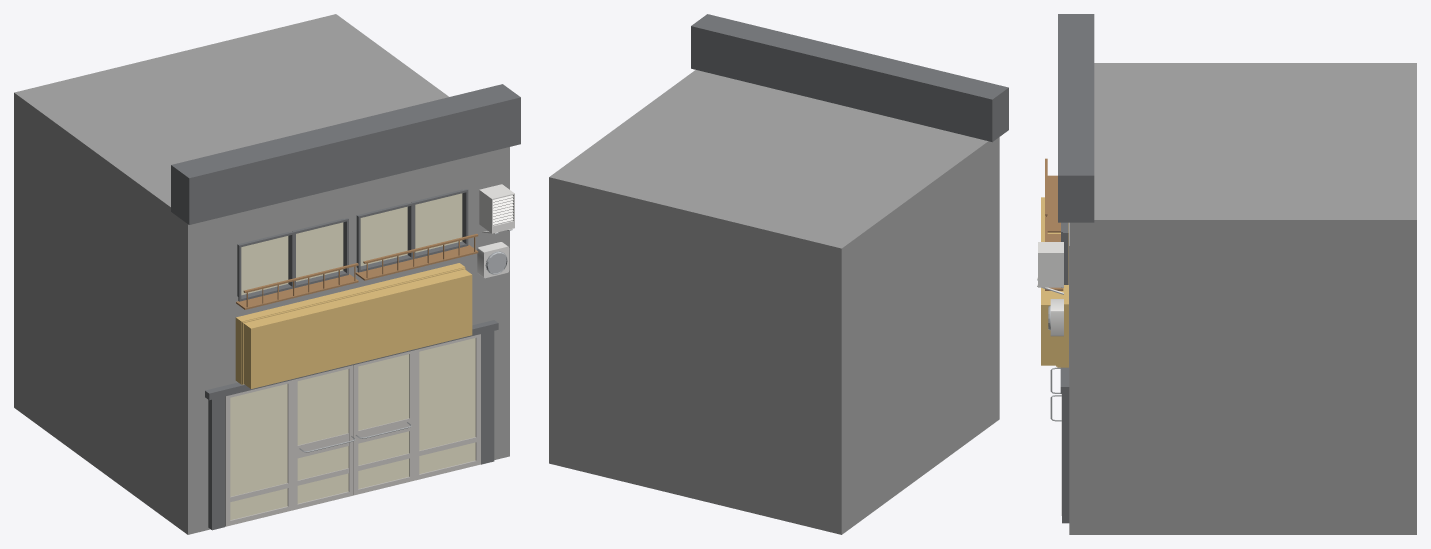
Rendered from building.fbx.
3 renders of one model, left to right at view 1: azimuth 30°, elevation 25°; view 2: azimuth 150°, elevation 25°; view 3: azimuth 270°, elevation 25°, orthographic. The views are drawn at different scales.
Visible parts, largest first — view 1: pCube1, group1; view 2: pCube1, group1; view 3: pCube1, group1.
Part boxes in pixels (left/top/right/bottom): pCube1: left=14, top=14, right=509, bottom=534; group1: left=171, top=84, right=520, bottom=530; pCube1: left=549, top=70, right=999, bottom=534; group1: left=691, top=14, right=1008, bottom=142; pCube1: left=1069, top=63, right=1416, bottom=534; group1: left=1037, top=14, right=1094, bottom=523.
Size of the model in its own units: 758 by 790 by 751.
